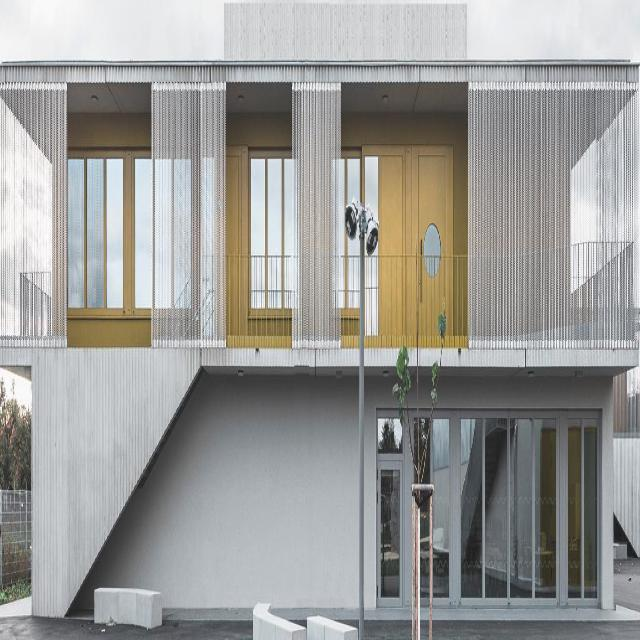door: (381, 455, 414, 603)
railing: (339, 247, 470, 345), (224, 246, 299, 346)
window: (379, 410, 605, 607), (66, 150, 132, 315), (251, 145, 296, 251), (338, 146, 377, 250), (132, 146, 155, 313), (424, 223, 441, 275)
